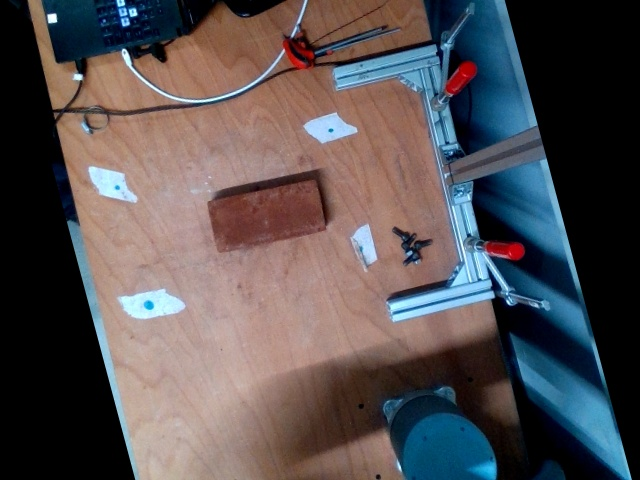brick: (210, 178, 326, 250)
